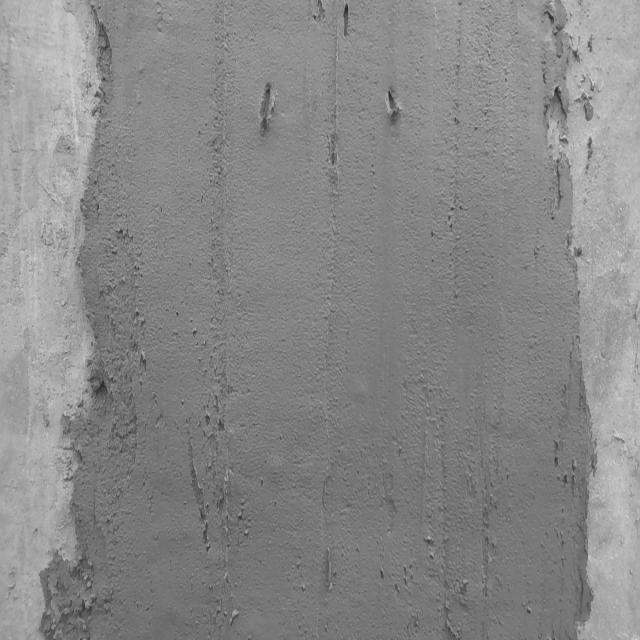trowels marks: (214, 6, 240, 628), (324, 4, 342, 600), (448, 0, 467, 308), (433, 422, 455, 638)
